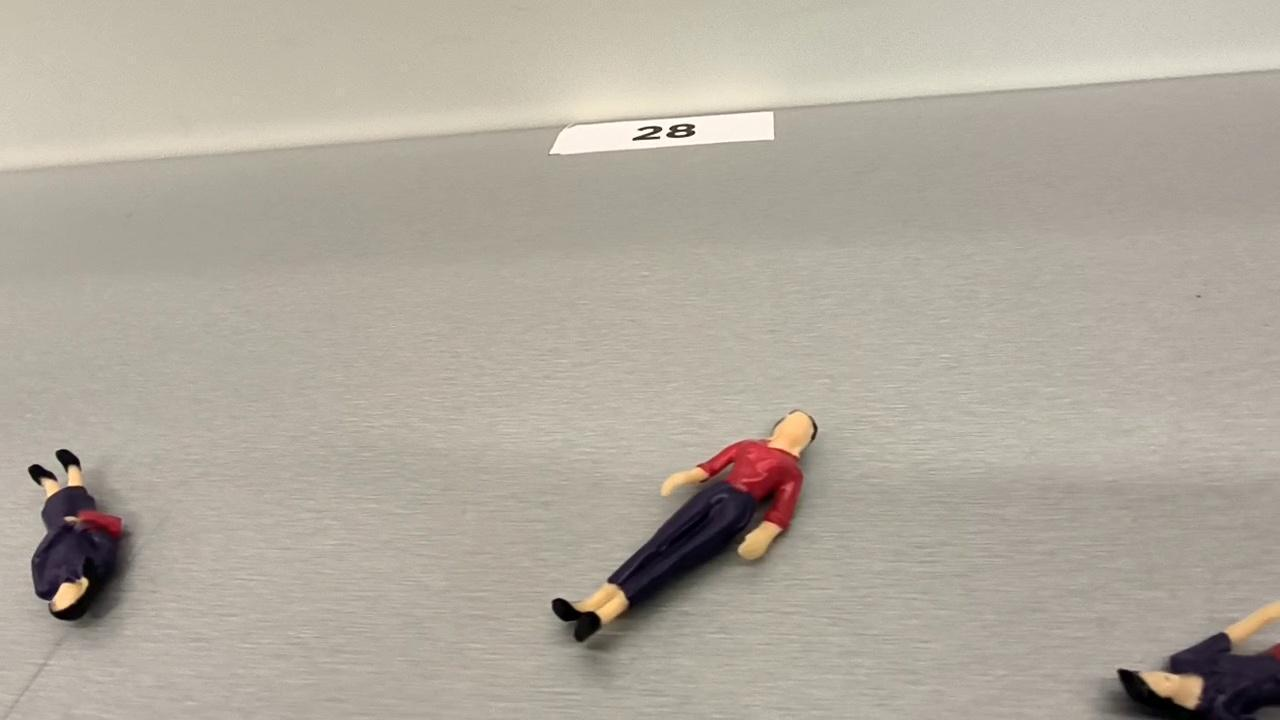human: (528, 383, 842, 666), (13, 435, 136, 638)
